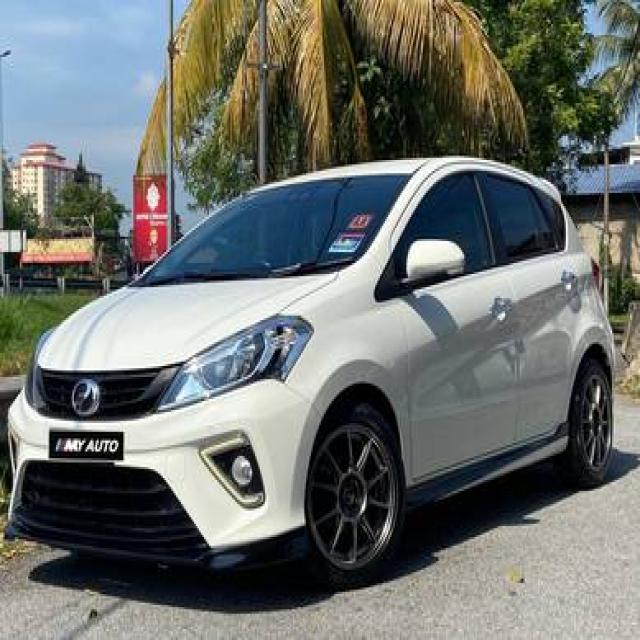PeroduaMyvi: (2, 152, 617, 588)
